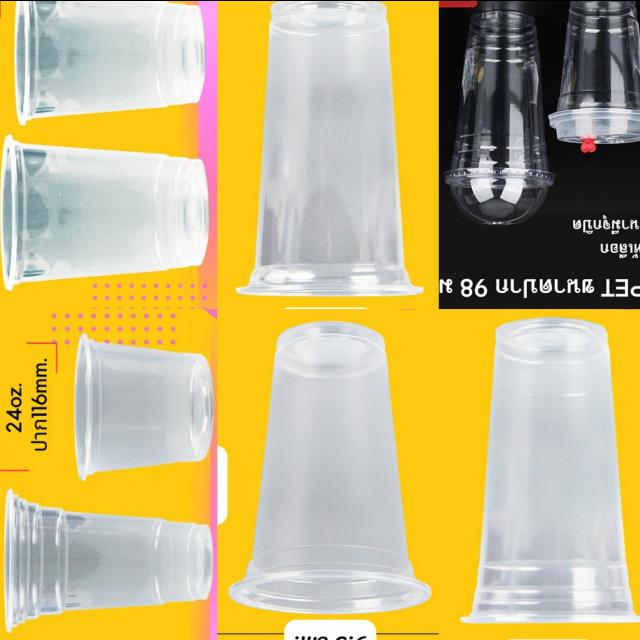plastik: (229, 321, 430, 613), (237, 0, 422, 295), (462, 317, 640, 622), (1, 134, 208, 288), (4, 488, 213, 631), (15, 0, 205, 124), (445, 9, 554, 223), (74, 332, 213, 479), (549, 0, 640, 152)
